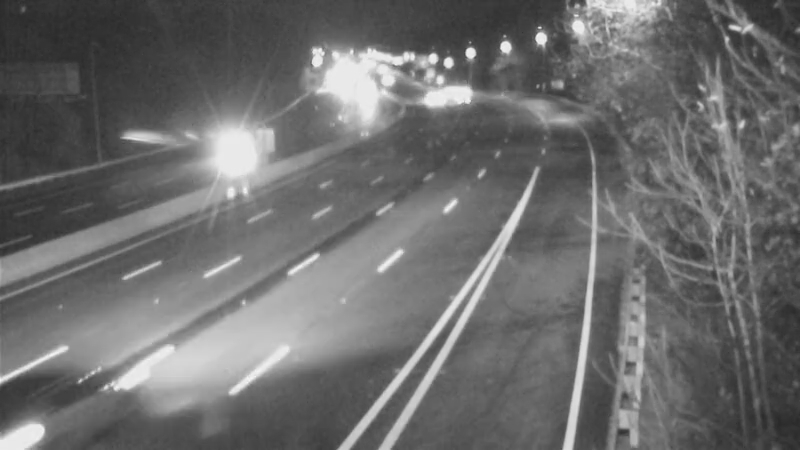vehicle: (1, 356, 101, 450), (192, 111, 272, 191), (361, 56, 411, 106), (438, 68, 488, 118), (400, 69, 450, 119), (433, 80, 483, 130)
